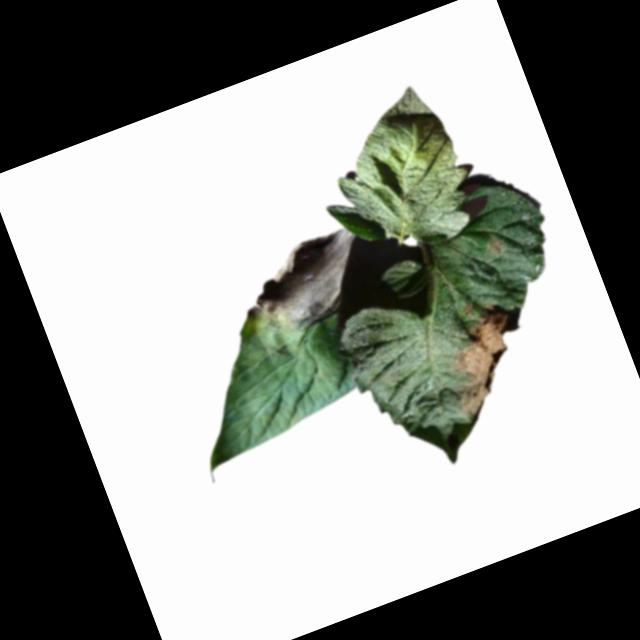Late_blight: (229, 222, 379, 344), (427, 292, 553, 427), (481, 230, 510, 260)
